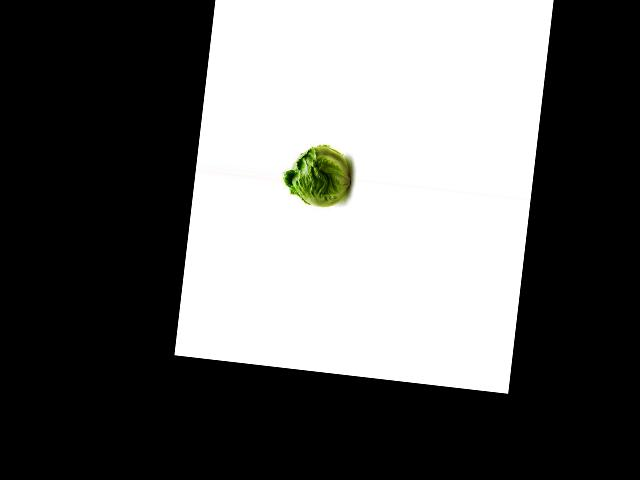lettuce: (280, 135, 357, 212)
